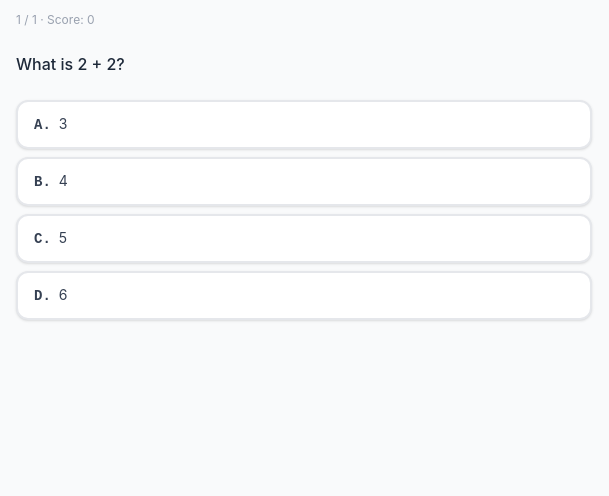
Scenario: QuizPanel › shows correct feedback after selecting right answer
Click the button "B.4" at (38, 182), box x1=16 y1=157 x2=592 y2=206
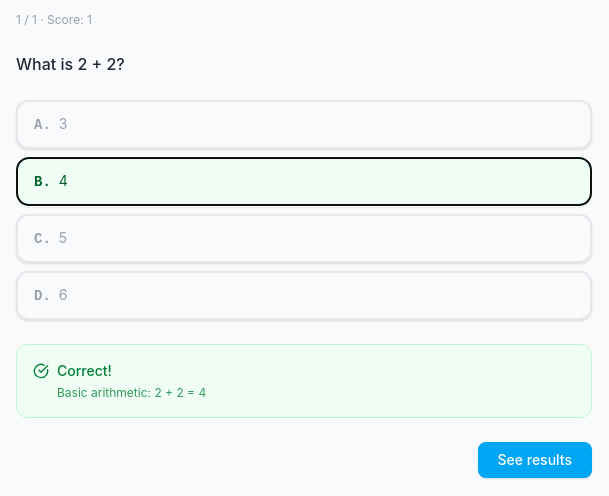
Check: the text "Correct!" is shown, box x1=57 y1=362 x2=112 y2=379
